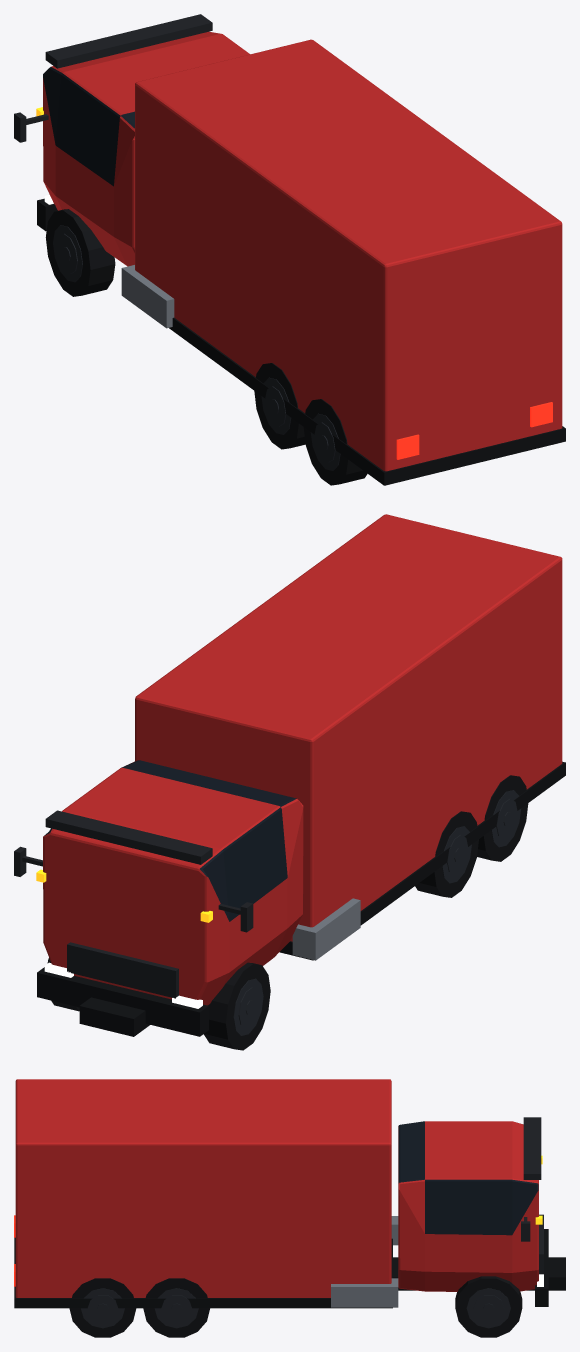
File: traffic_truck.glb
The picture shows the model from 3 angles, top to bottom: view 1: azimuth 30°, elevation 25°; view 2: azimuth 150°, elevation 25°; view 3: azimuth 270°, elevation 25°; orthographic projection. The views are drawn at different scales.
Parts seen in each view (by area): view 1: Body, Wheel_FL, Wheel_RL, Wheel_ML; view 2: Body, Wheel_FL, Wheel_ML, Wheel_RL; view 3: Body, Wheel_FR, Wheel_MR, Wheel_RR.
Boxes of the visible parts, x1,y1,x2,y2 form: Body: (14, 14, 565, 485); Wheel_FL: (45, 209, 115, 296); Wheel_RL: (303, 399, 367, 485); Wheel_ML: (254, 363, 305, 449); Body: (14, 514, 565, 1036); Wheel_FL: (203, 962, 270, 1050); Wheel_ML: (415, 811, 478, 897); Wheel_RL: (477, 775, 528, 861); Body: (14, 1079, 565, 1308); Wheel_FR: (455, 1276, 522, 1337); Wheel_MR: (143, 1278, 209, 1337); Wheel_RR: (69, 1278, 136, 1337).
Size of the model in its own units: 3 by 3.19 by 8.23.
